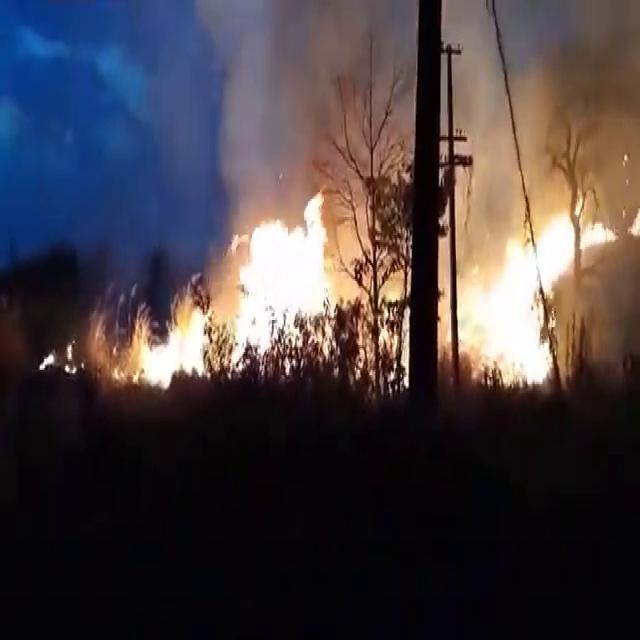Fire: (462, 273, 548, 375), (246, 229, 329, 333), (144, 330, 202, 378), (539, 221, 576, 270)
